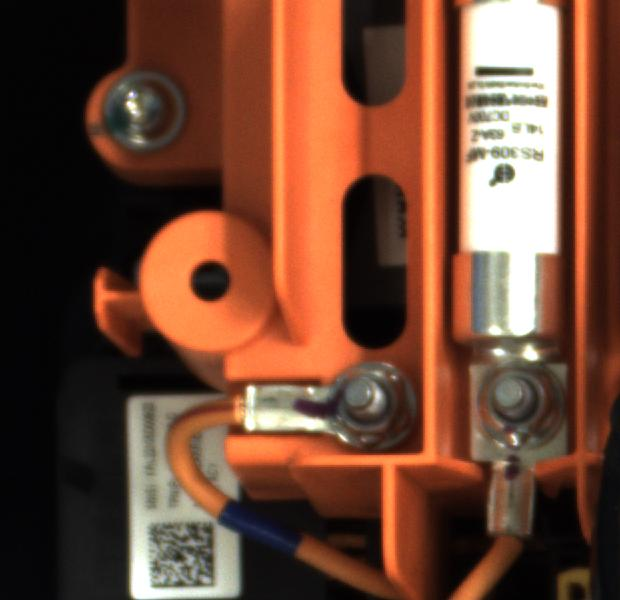screw_m: (93, 64, 201, 162)
screw_s: (472, 360, 568, 443), (327, 350, 411, 441)
